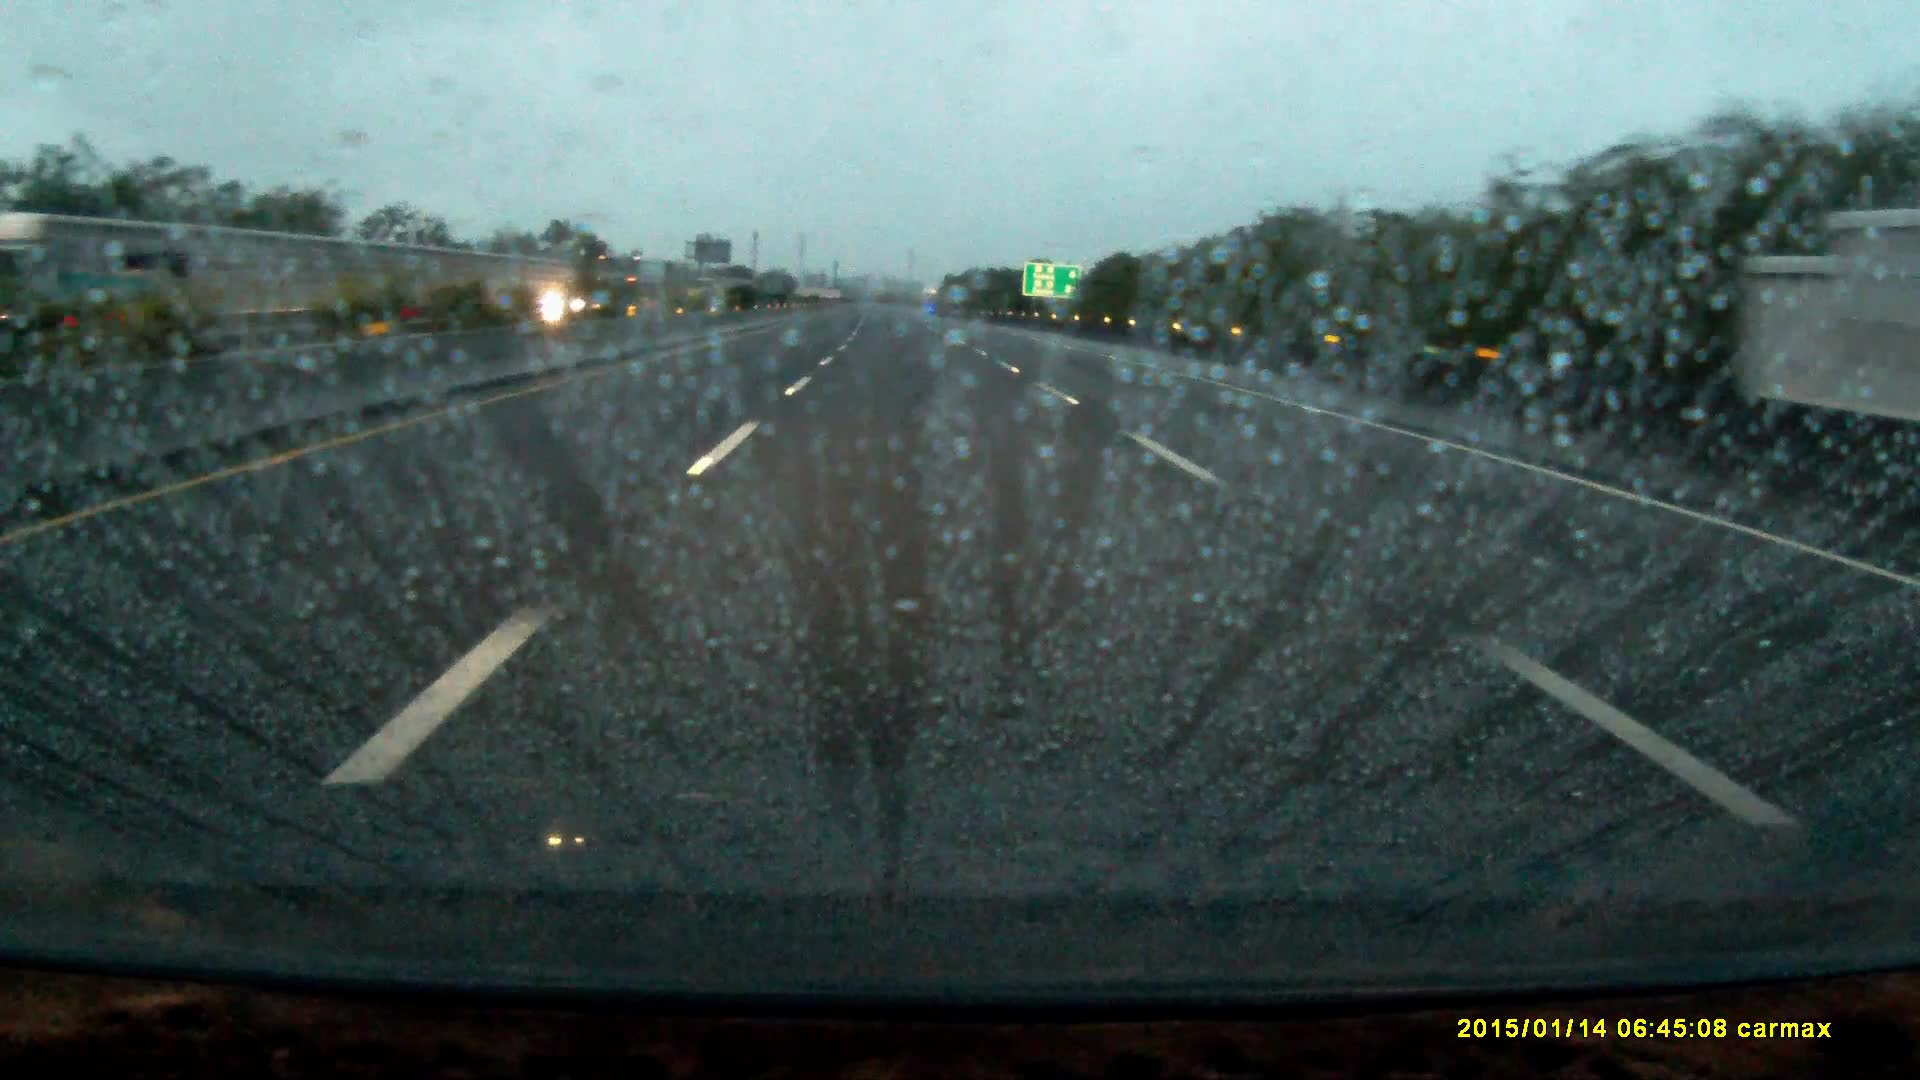vehicle: (596, 257, 669, 316), (546, 284, 600, 318)
